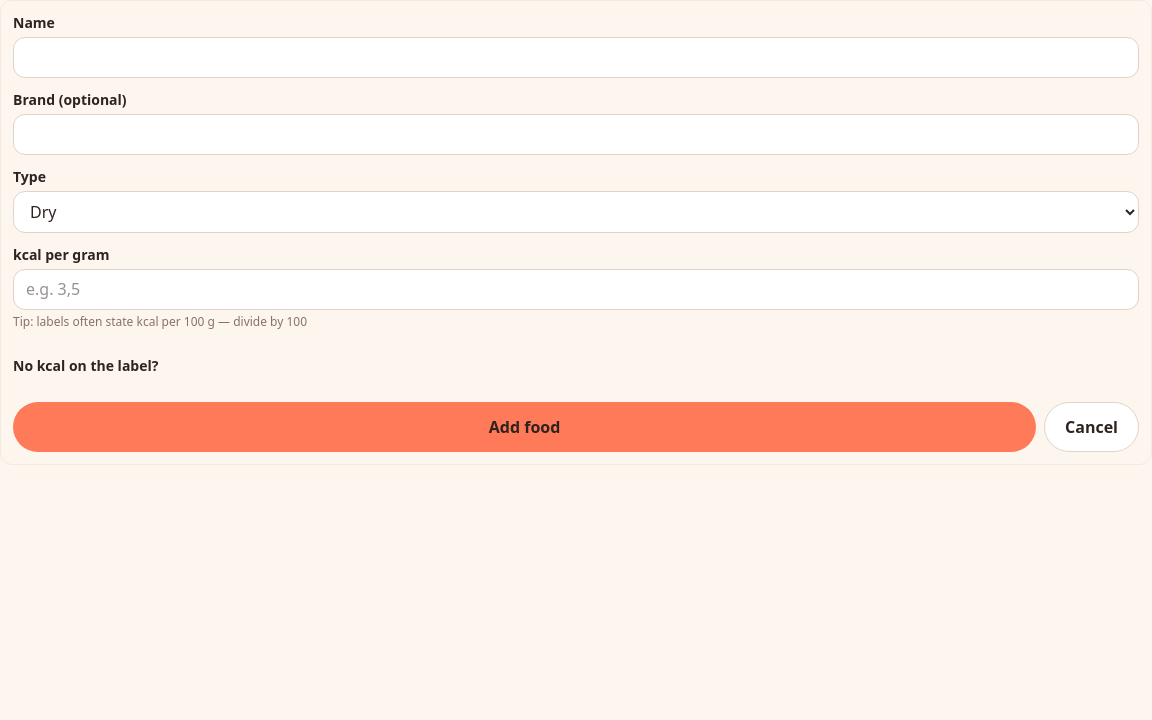
FoodForm › requires a name
Type "3.5" into the field with test id "food-kcal-per-gram". click: (576, 289)
box: [13,269,1139,310]
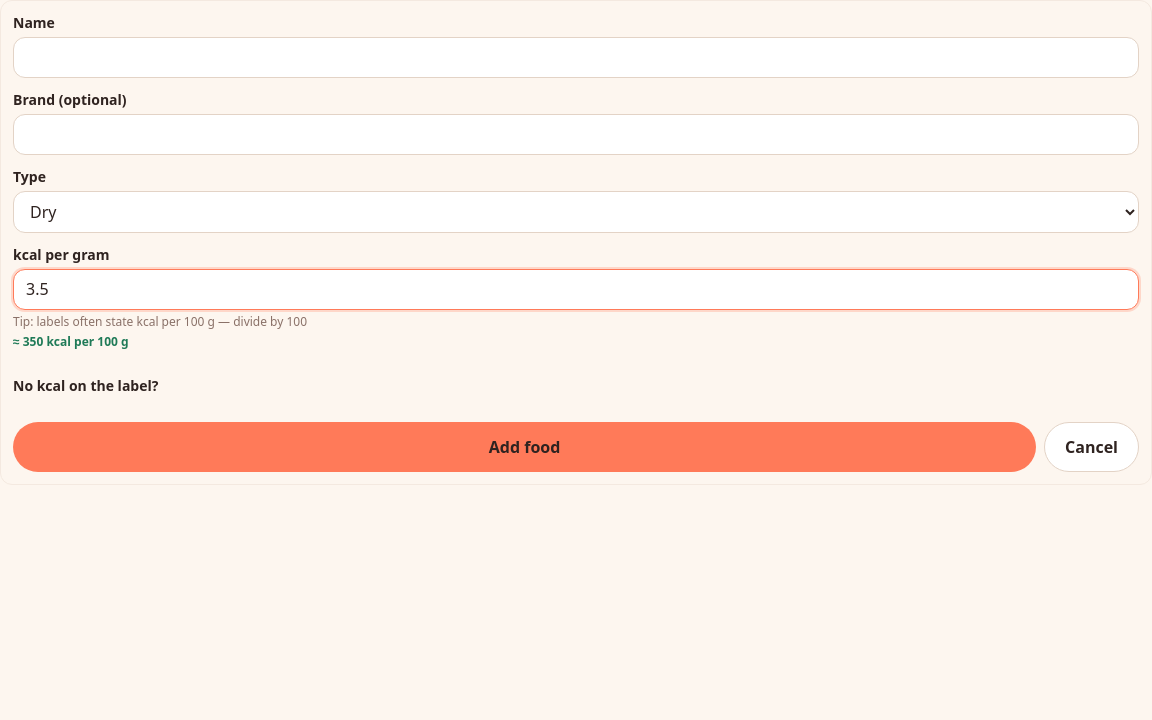
Click the button with test id "food-save". click: (525, 446)
box: [13,422,1036,472]
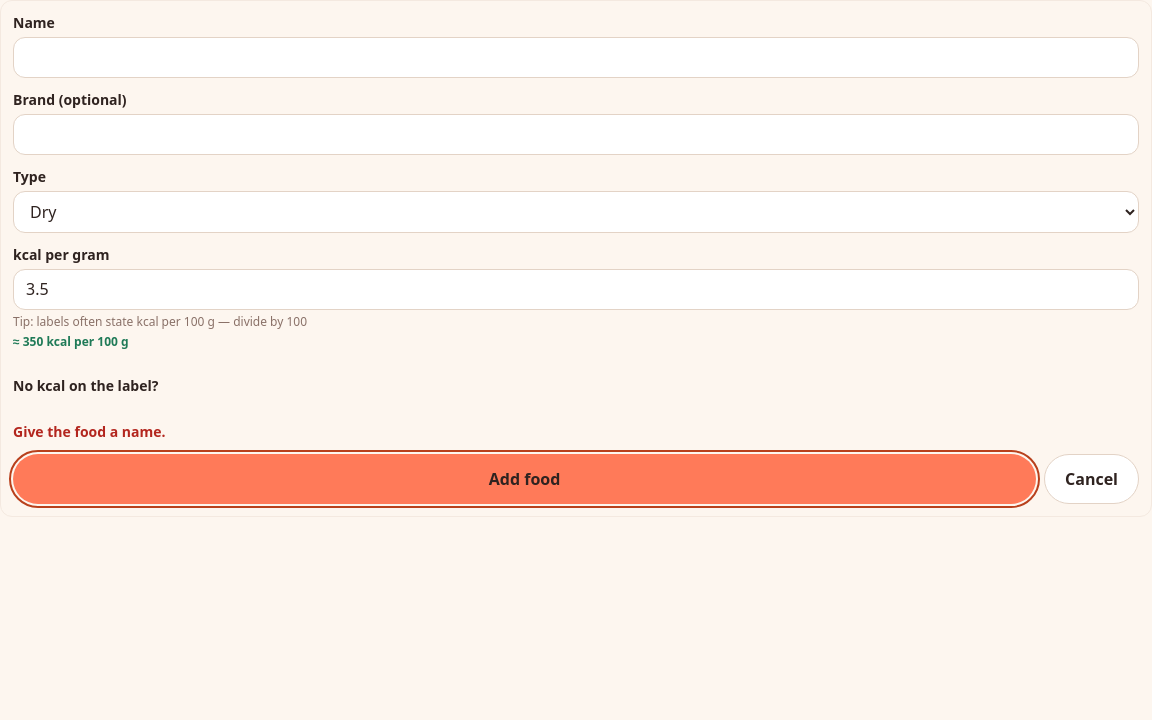
Expected: the message reads "Give the food a name.", [13,422,166,440]
